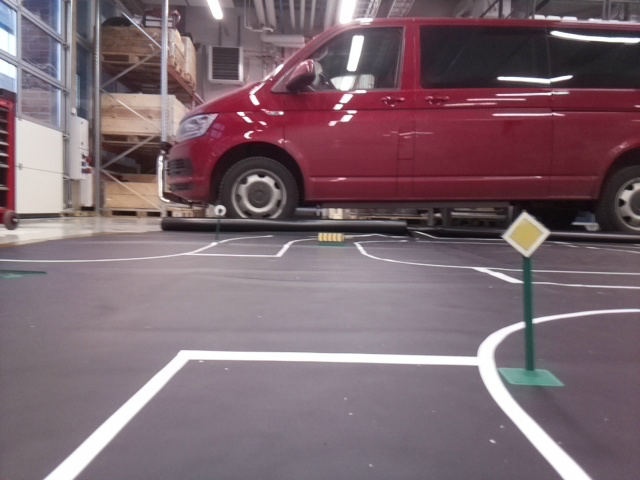Priority: (499, 206, 552, 256)
